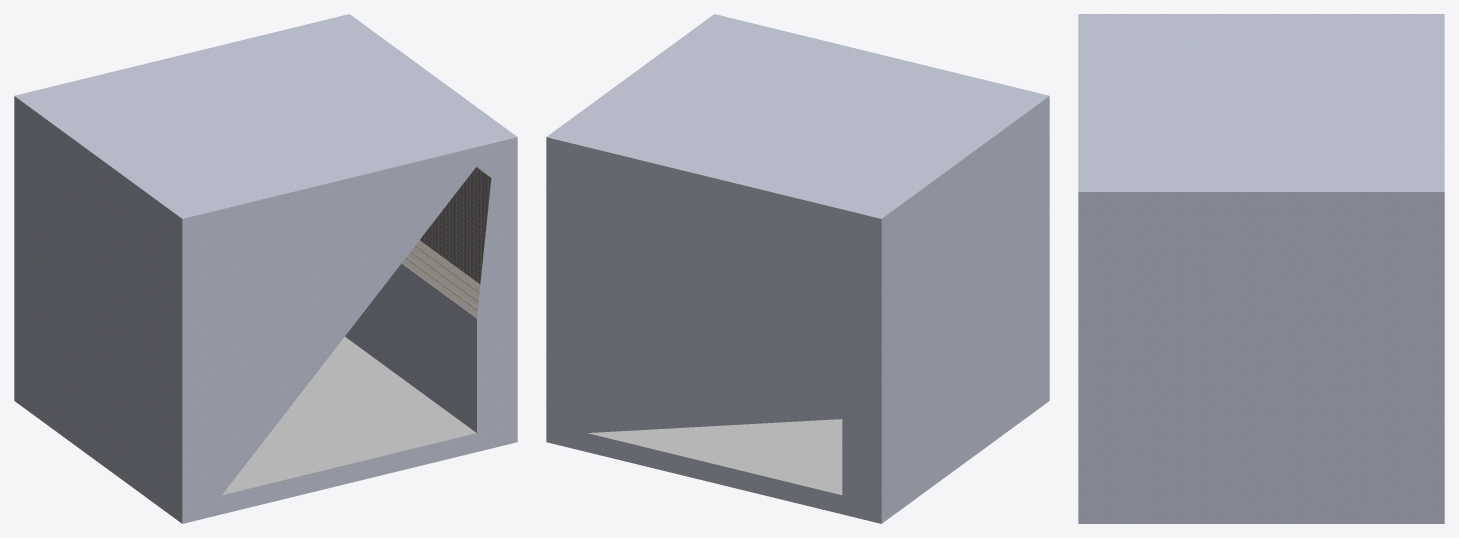
The model's file is straight.fbx.
3 views of the same model, side by side, from view 1: azimuth 30°, elevation 25°; view 2: azimuth 150°, elevation 25°; view 3: azimuth 270°, elevation 25° (orthographic). The views are drawn at different scales.
Visible parts, largest first — view 1: Cube; view 2: Cube; view 3: Cube.
Part boxes in pixels (<box>): Cube: <box>14,14,517,523</box>; Cube: <box>546,14,1049,523</box>; Cube: <box>1078,14,1444,523</box>.
Size of the model in its own units: 345 by 300 by 300.
